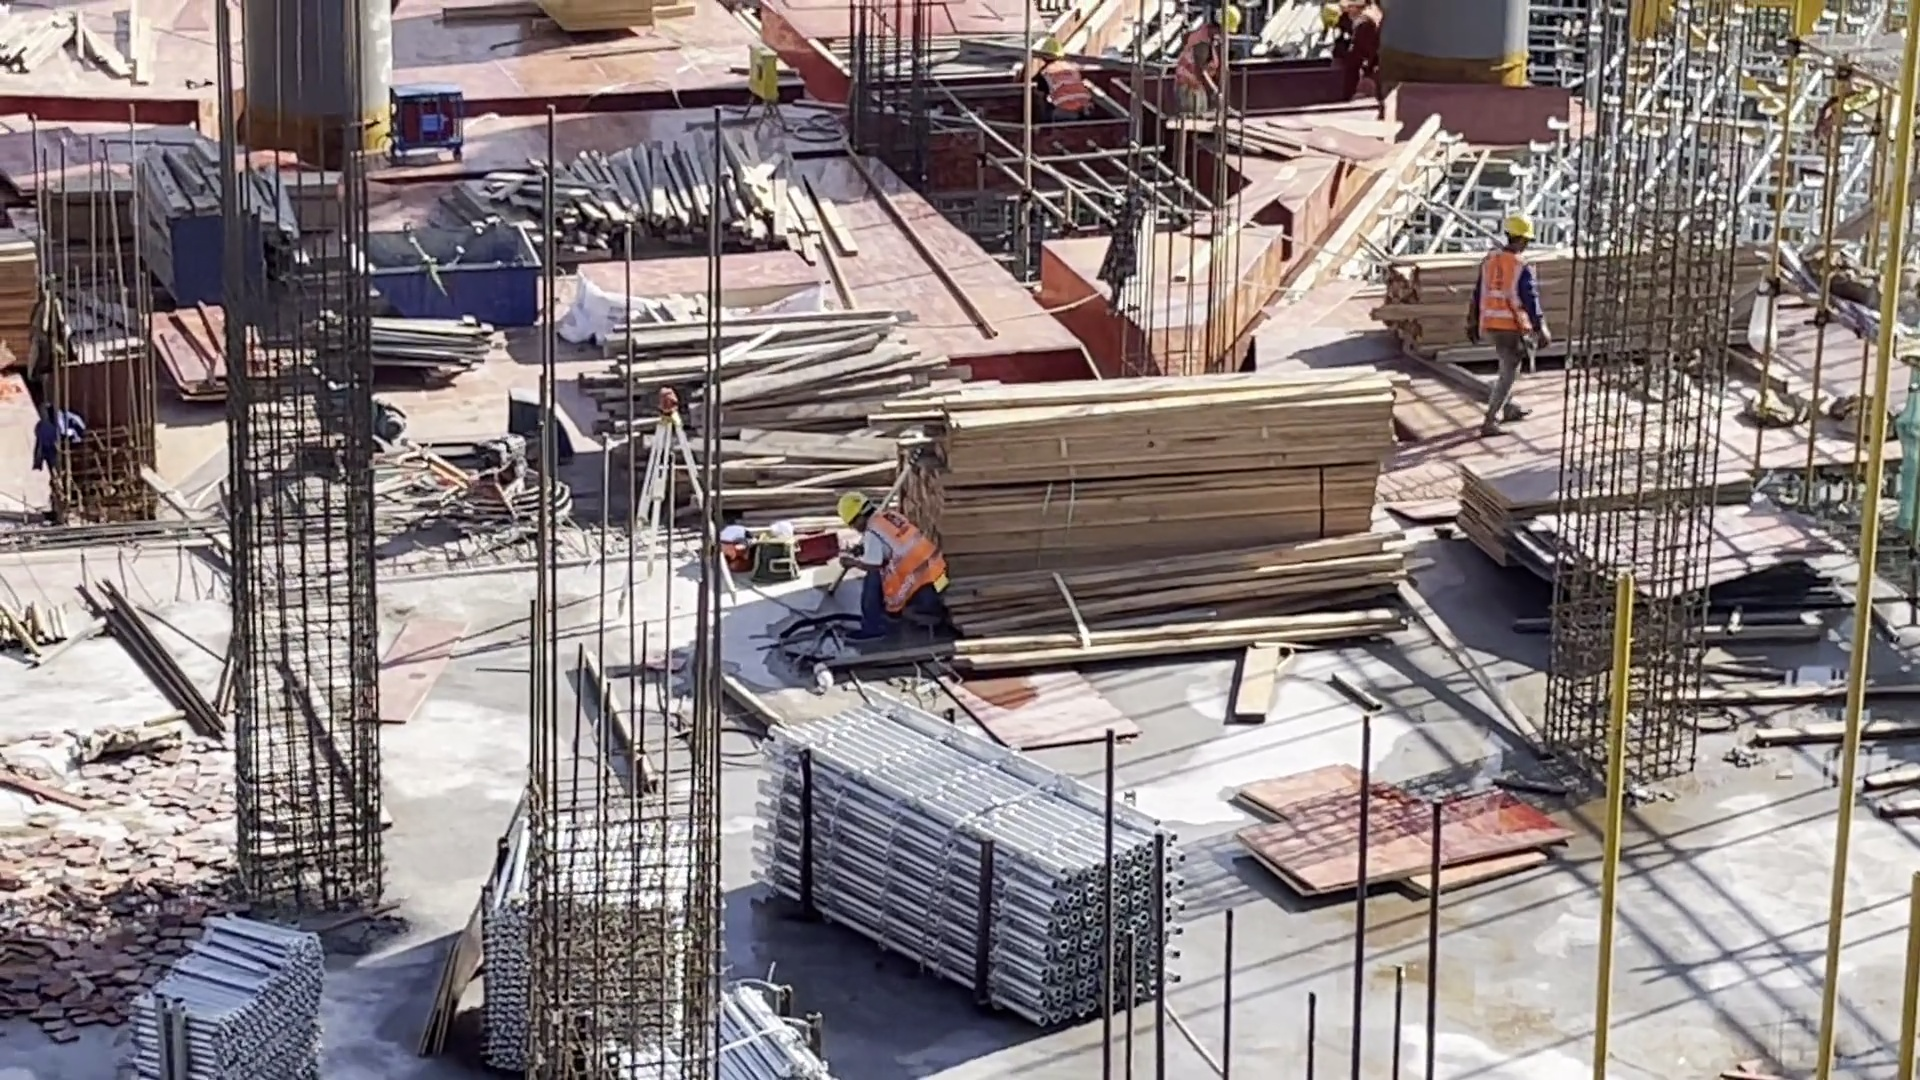board: (1457, 443, 1829, 606)
ebox: (745, 42, 778, 103)
helmet: (1496, 214, 1533, 238), (837, 495, 867, 524), (1211, 10, 1237, 30), (1322, 3, 1343, 25), (1044, 38, 1062, 62)
hopper: (339, 219, 543, 330)
person: (1470, 213, 1556, 423), (836, 494, 955, 638), (1173, 6, 1241, 121), (1315, 3, 1382, 97), (1033, 38, 1099, 126)
scaffold: (757, 692, 1183, 1033), (491, 789, 833, 1080), (125, 913, 325, 1080)
vest: (862, 514, 951, 610), (1480, 253, 1531, 336), (1040, 68, 1094, 113), (1177, 30, 1215, 93), (1354, 8, 1383, 45)
wood: (859, 365, 1404, 658), (588, 304, 900, 538), (1381, 240, 1754, 365), (563, 123, 846, 264)
